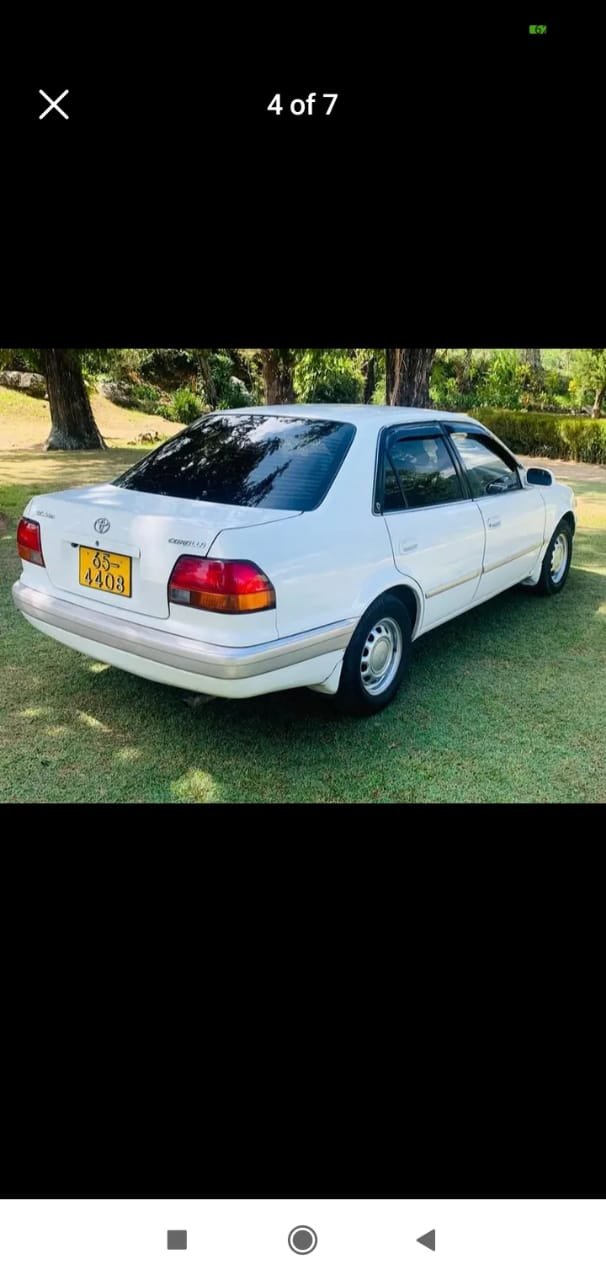number_plate: (66, 545, 135, 595)
